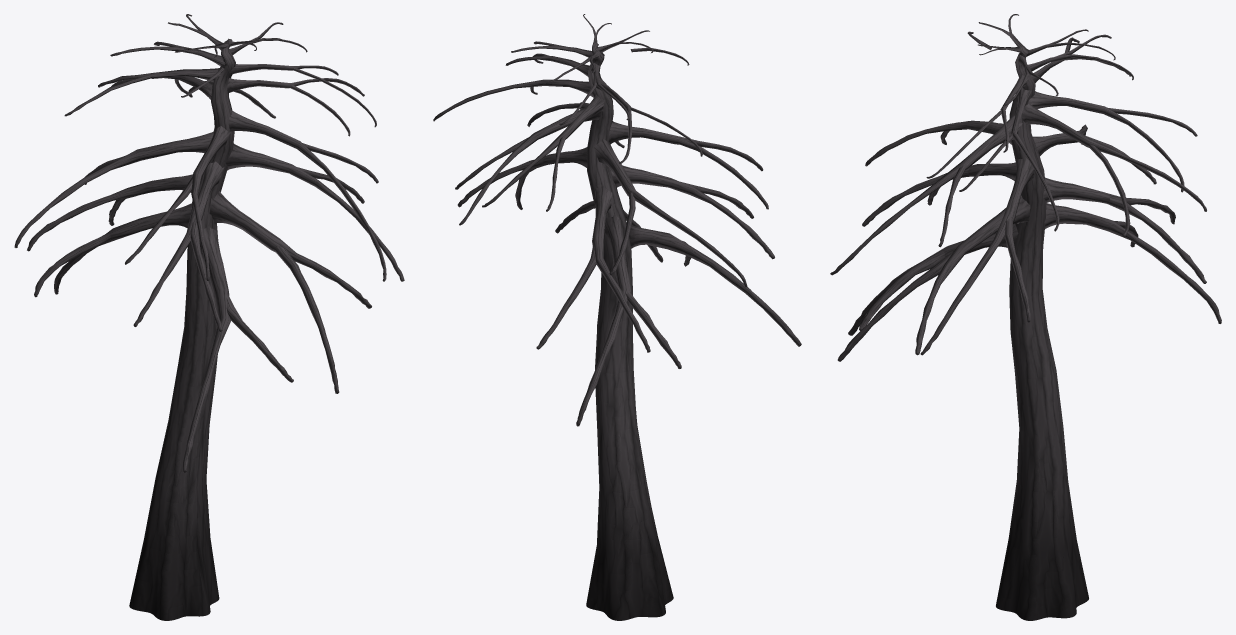
Rendered from dead_tree_4.glb.
3 views of the same model, side by side, from view 1: azimuth 30°, elevation 25°; view 2: azimuth 150°, elevation 25°; view 3: azimuth 270°, elevation 25° (orthographic). The views are drawn at different scales.
Parts seen in each view (by area): view 1: DeadTree_4; view 2: DeadTree_4; view 3: DeadTree_4.
Part boxes in pixels (left/top/right/bottom): DeadTree_4: left=14, top=14, right=404, bottom=620; DeadTree_4: left=433, top=14, right=801, bottom=620; DeadTree_4: left=830, top=14, right=1221, bottom=620.
Bounding box in the file's own units: 7.96 × 12.77 × 7.73.
Materials: 1 (1 with a texture image).
